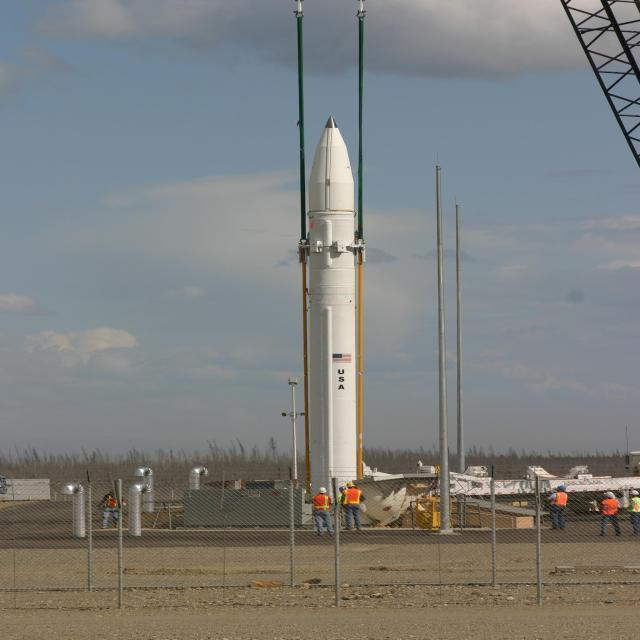missile: (305, 117, 370, 481)
